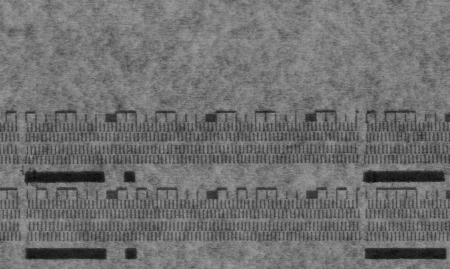Oblique printing: (25, 143, 44, 167)
